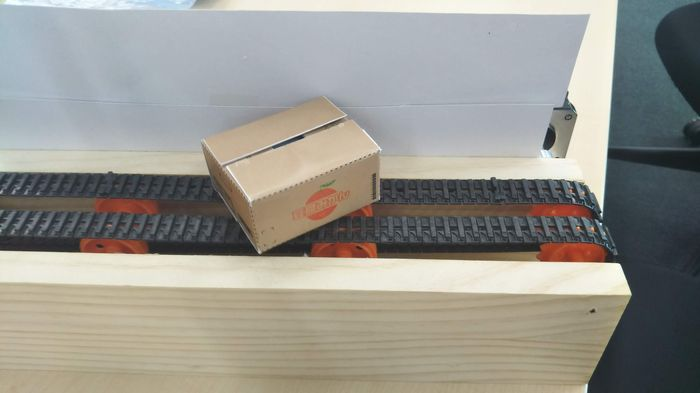box1: (197, 94, 382, 254)
